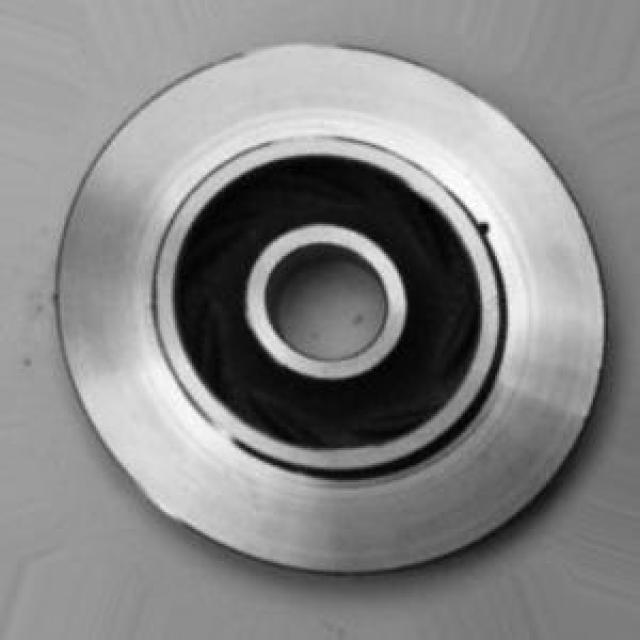Defect: (475, 217, 490, 244)
